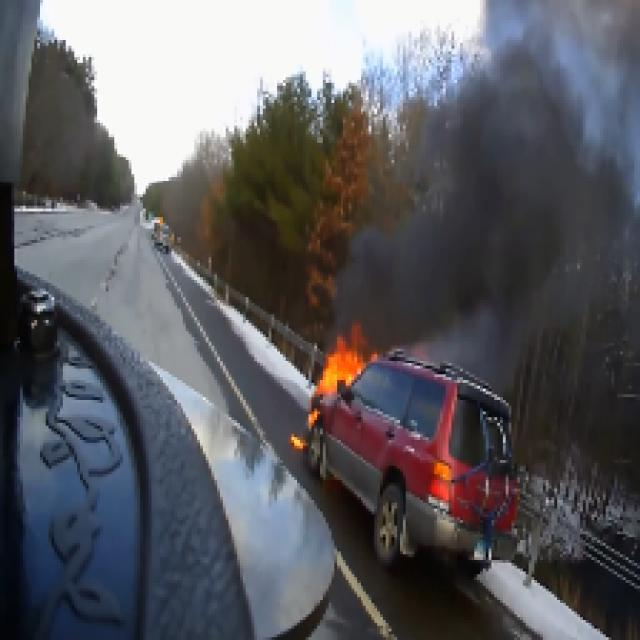Smoke: (294, 0, 640, 340), (272, 311, 388, 500)
